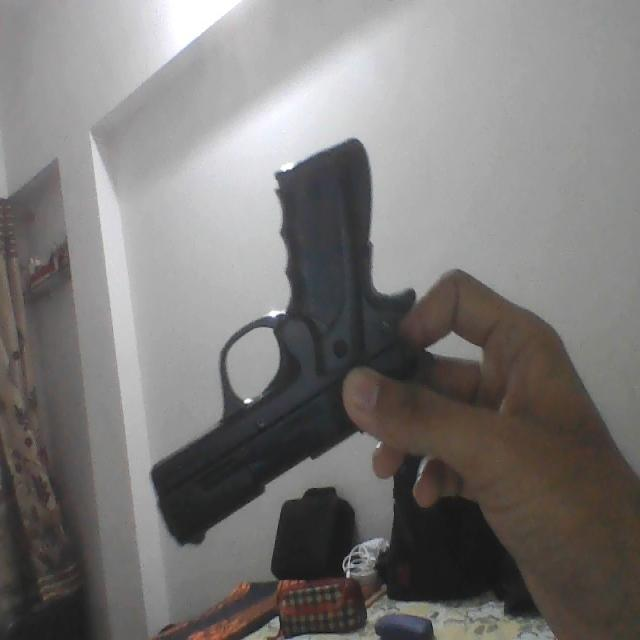handgun: (151, 132, 427, 548)
